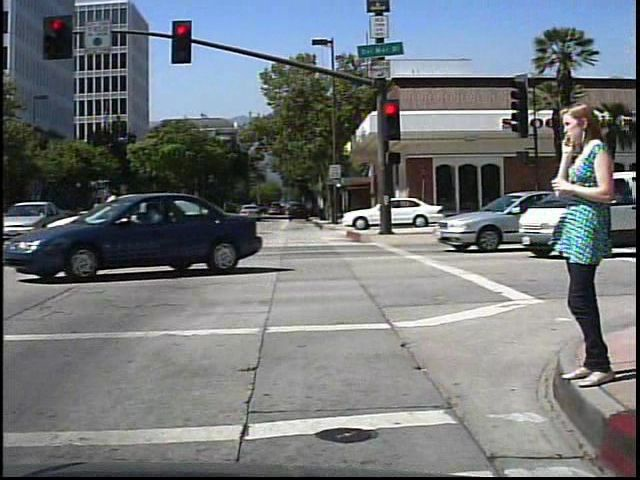person: (549, 92, 615, 398)
